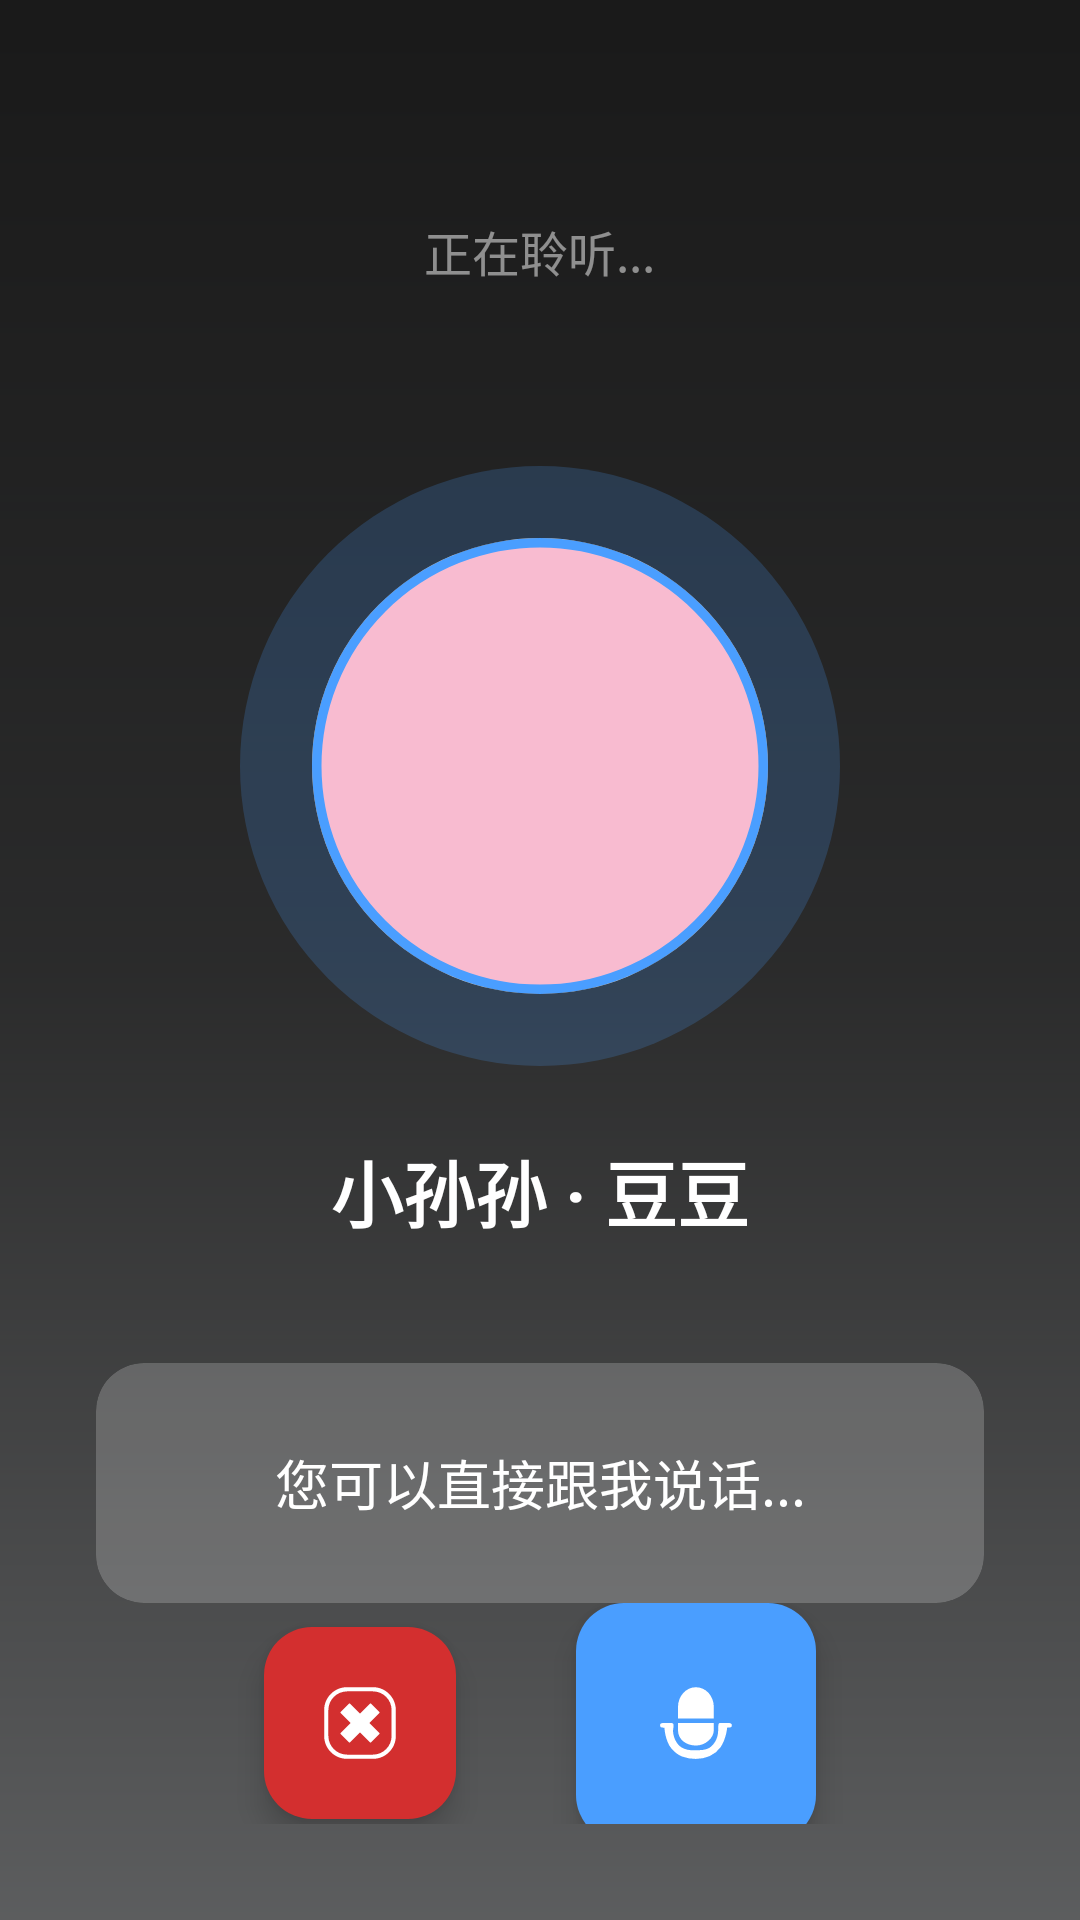

Icons on this 1080×1920 Android screen, each with the point to tap as (x=x, y=y):
close: (x=360, y=1723)
mic: (x=696, y=1713)
